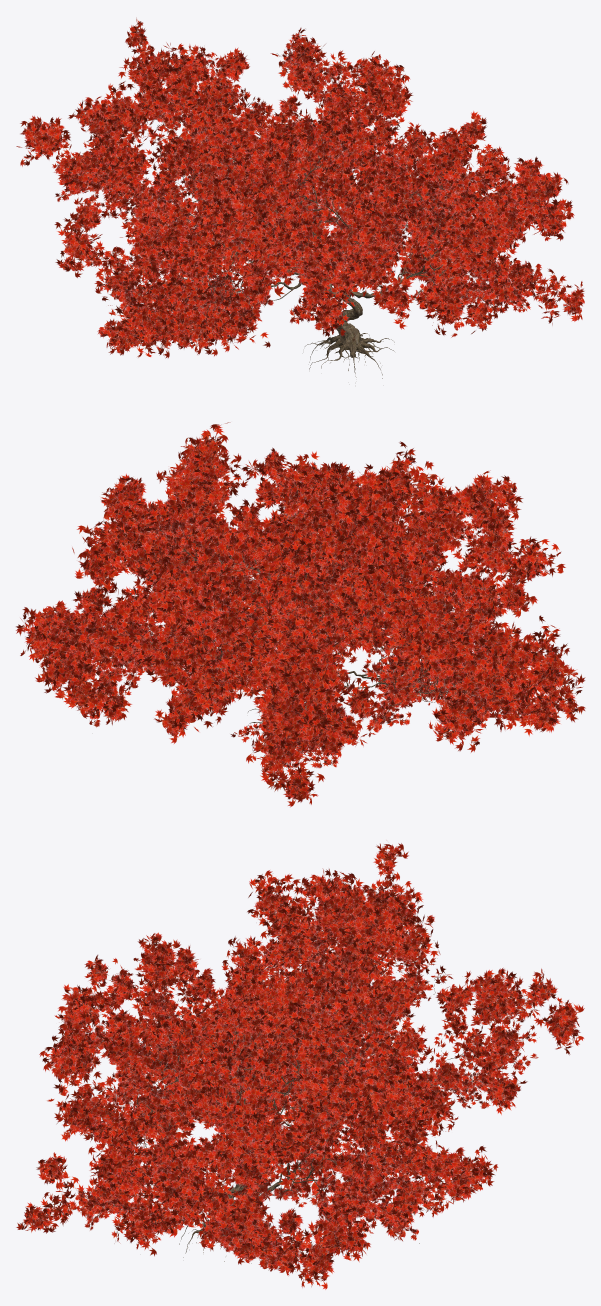
Rendered from maple.glb.
The picture shows the model from 3 angles, top to bottom: view 1: azimuth 30°, elevation 25°; view 2: azimuth 150°, elevation 25°; view 3: azimuth 270°, elevation 25°; orthographic projection. The views are drawn at different scales.
Parts seen in each view (by area): view 1: Material, shu_gan; view 2: Material, shu_gan; view 3: Material, shu_gan.
Part boxes in pixels (x1,y1,x2,y2): Material: [16, 17, 584, 358]; shu_gan: [41, 53, 524, 378]; Material: [15, 422, 585, 807]; shu_gan: [39, 458, 537, 769]; Material: [16, 843, 584, 1289]; shu_gan: [51, 883, 555, 1276].
Size of the model in its own units: 75.28 by 52.73 by 77.2.
2 materials, 2 textured.
